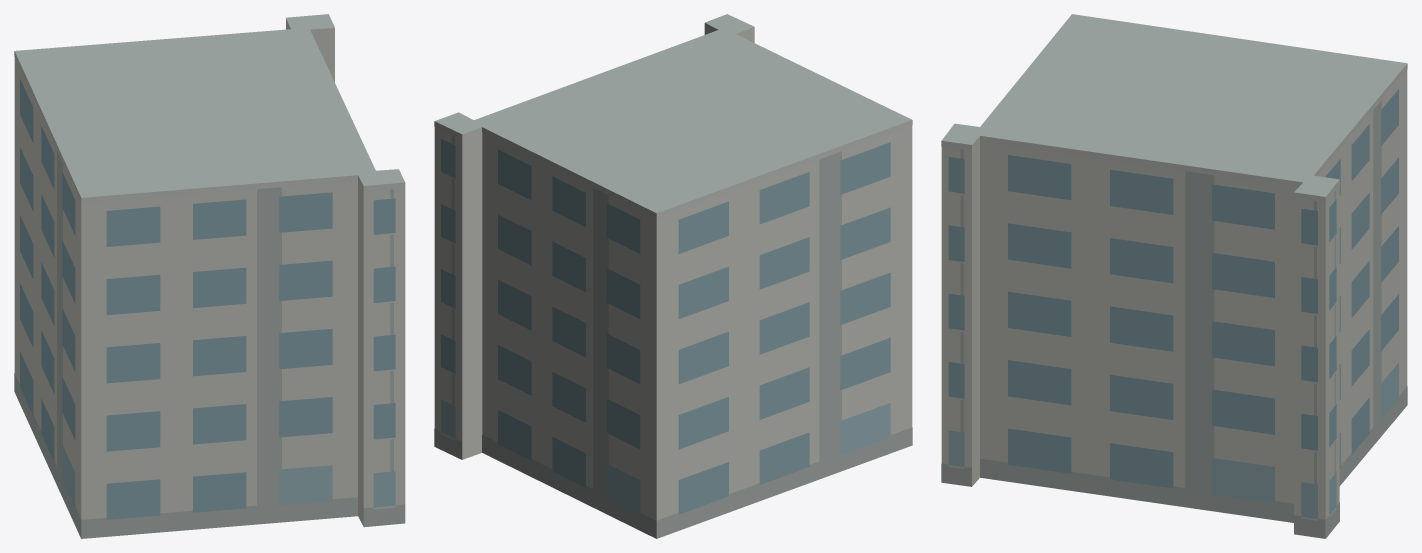
Rendered from survey-upis-32877220.glb.
The picture shows the model from 3 angles, left to right: view 1: azimuth 30°, elevation 25°; view 2: azimuth 150°, elevation 25°; view 3: azimuth 270°, elevation 25°; orthographic projection. The views are drawn at different scales.
Visible parts, largest first — view 1: survey-upis-32877220.tmp; view 2: survey-upis-32877220.tmp; view 3: survey-upis-32877220.tmp.
Boxes of the visible parts, <box> form: survey-upis-32877220.tmp: <box>14,14,405,538</box>; survey-upis-32877220.tmp: <box>434,14,912,538</box>; survey-upis-32877220.tmp: <box>941,14,1407,538</box>.
Bounding box in the file's own units: 16.42 × 14.3 × 17.67.
